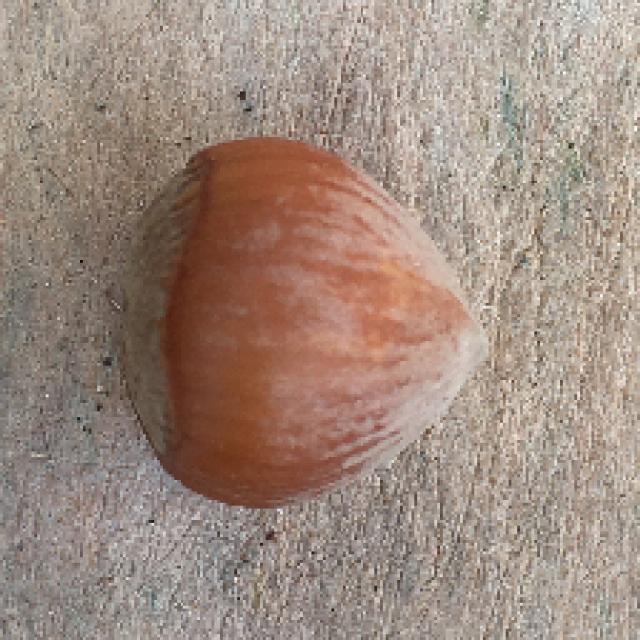QualityHazelnut: (119, 136, 497, 510)
